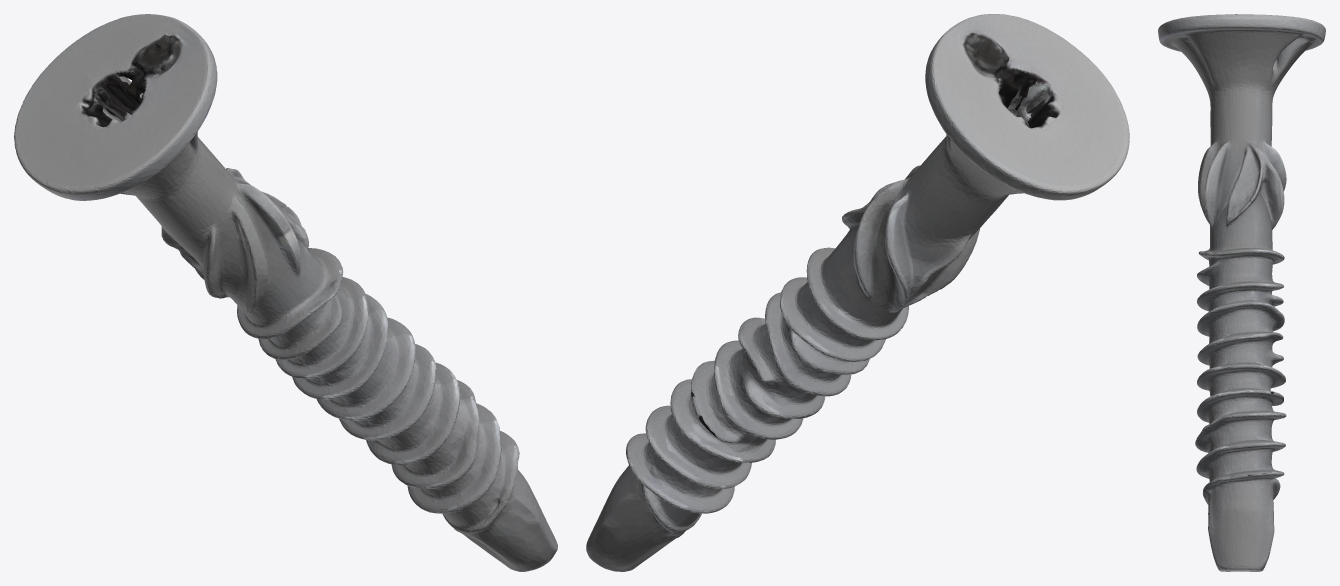
File: 9ec43693-8025-46b8-8138-bd5db9a2558f_result.glb
3 views of the same model, side by side, from view 1: azimuth 30°, elevation 25°; view 2: azimuth 150°, elevation 25°; view 3: azimuth 270°, elevation 25° (orthographic). The views are drawn at different scales.
Visible parts, largest first — view 1: tmpeg8iwyeh.ply; view 2: tmpeg8iwyeh.ply; view 3: tmpeg8iwyeh.ply.
Boxes of the visible parts, x1,y1,x2,y2 form: tmpeg8iwyeh.ply: (14, 14, 557, 571); tmpeg8iwyeh.ply: (586, 14, 1129, 571); tmpeg8iwyeh.ply: (1158, 14, 1325, 571).
Size of the model in its own units: 1.71 by 1.96 by 0.6731.
1 material, 1 textured.
